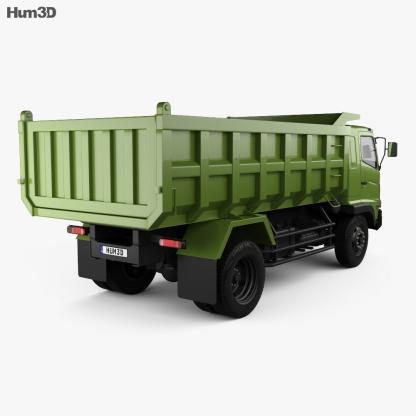dump_truck: (14, 99, 400, 332)
